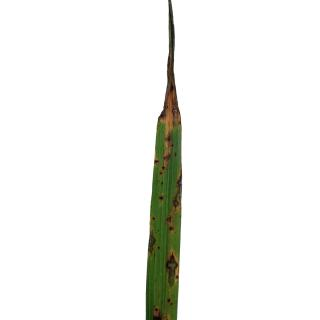Blast: (158, 51, 178, 137), (164, 248, 178, 288), (150, 298, 170, 320), (149, 226, 159, 252), (165, 215, 176, 232), (172, 194, 180, 214), (176, 170, 182, 193)
